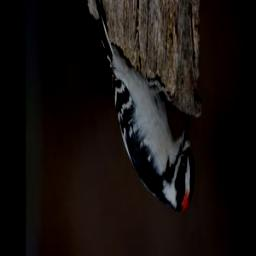Woodpecker: (92, 0, 196, 216)
